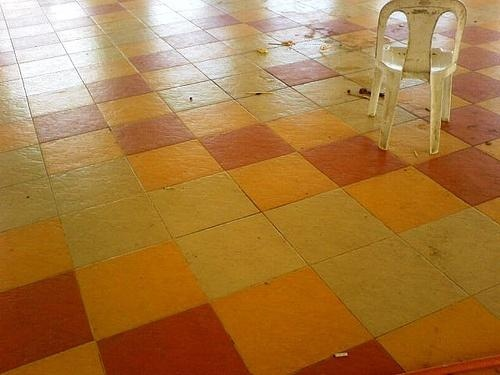chair: (367, 1, 468, 156)
